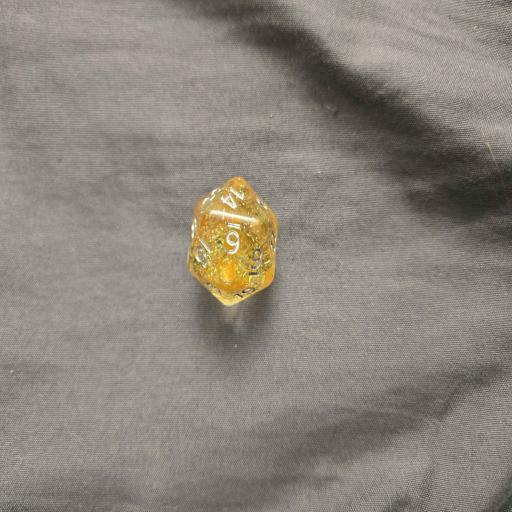twenty sided dice: (187, 176, 278, 306)
